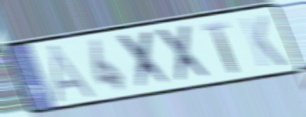4: (90, 36, 128, 95)
A: (47, 42, 101, 105)
K: (237, 13, 290, 70)
T: (199, 19, 240, 75)
X: (114, 27, 177, 93), (152, 23, 217, 86)
